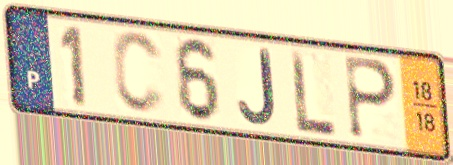1: (58, 23, 88, 109)
6: (172, 35, 224, 126)
C: (110, 28, 168, 118)
J: (236, 47, 279, 128)
L: (288, 47, 339, 138)
P: (342, 53, 399, 144)
